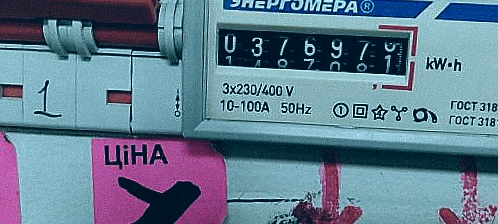0: (221, 31, 237, 53)
1: (381, 52, 391, 74)
3: (249, 35, 263, 56)
6: (301, 33, 317, 56)
7: (275, 33, 290, 56), (355, 36, 370, 59)
9: (328, 36, 343, 58)
screen: (203, 13, 420, 93)
